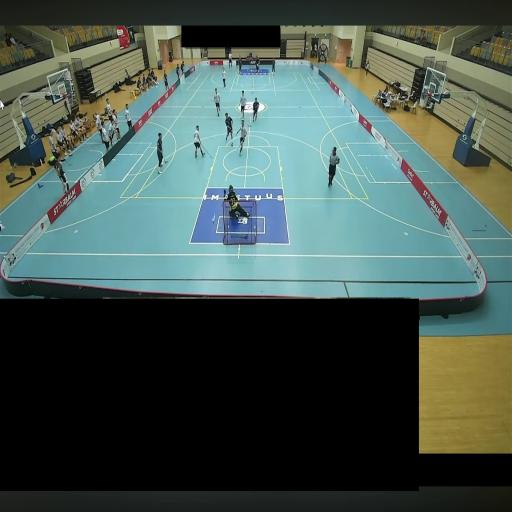Goalkeeper: (224, 185, 250, 216), (256, 55, 259, 72)
Player: (237, 121, 247, 154), (194, 125, 204, 157), (157, 133, 164, 173), (225, 113, 233, 146), (239, 91, 246, 119), (213, 88, 220, 116), (253, 97, 259, 121), (222, 68, 226, 88), (238, 56, 241, 74), (272, 58, 275, 73)
Referee: (328, 147, 339, 187), (229, 50, 232, 67)
